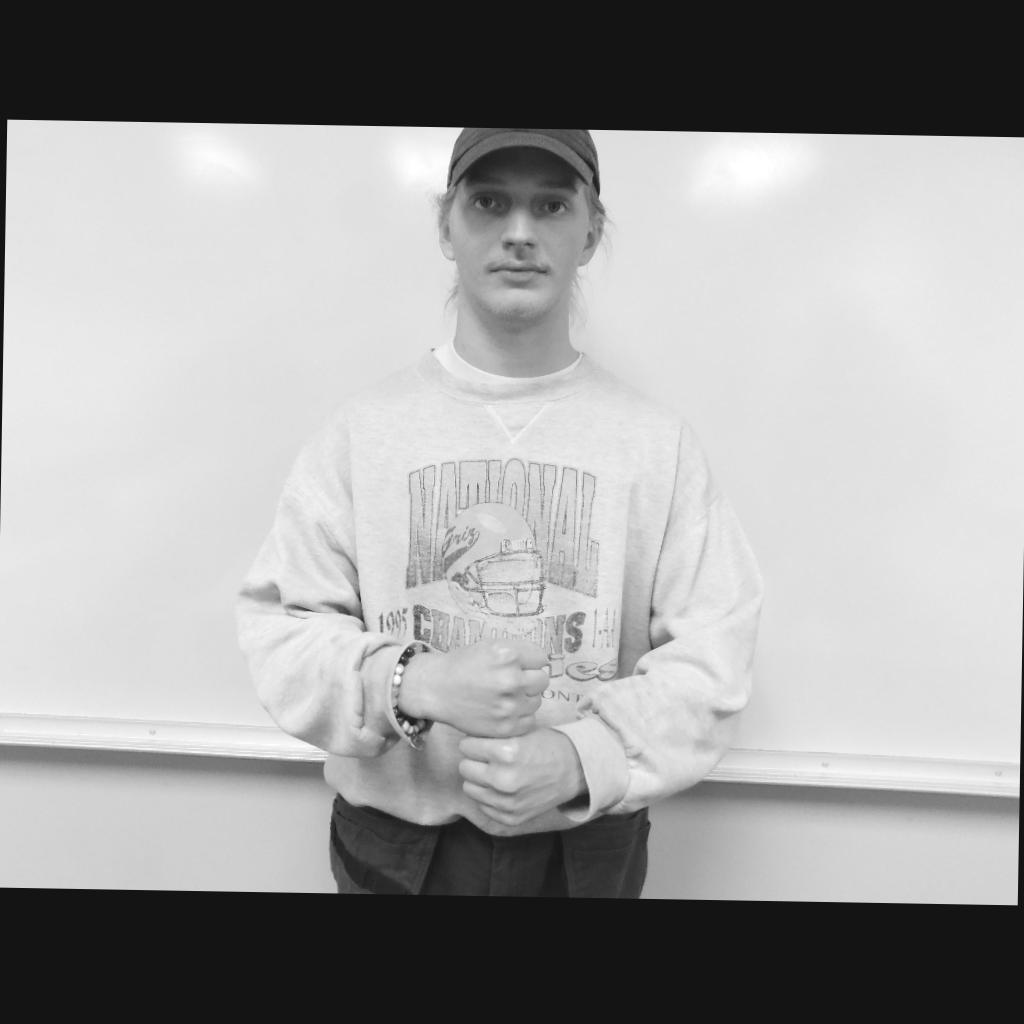get: (440, 639, 566, 827)
